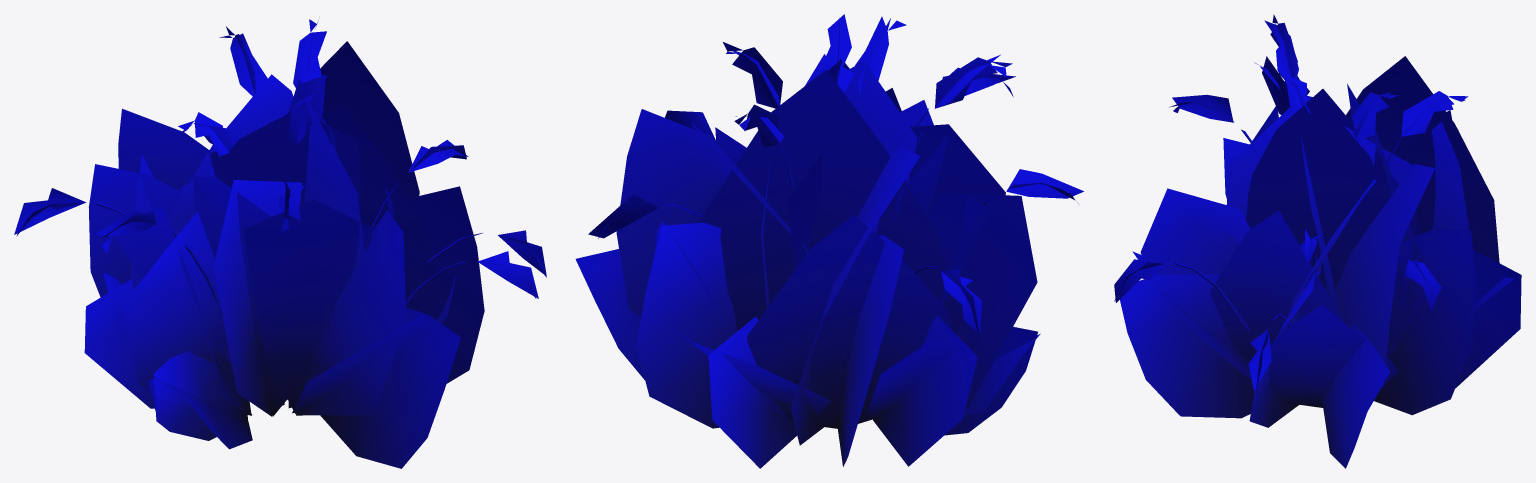
Rendered from SM_WildGrass_M_01.fbx.
3 renders of one model, left to right at view 1: azimuth 30°, elevation 25°; view 2: azimuth 150°, elevation 25°; view 3: azimuth 270°, elevation 25°, orthographic. The views are drawn at different scales.
Visible parts, largest first — view 1: SM_WildGrass_M_01; view 2: SM_WildGrass_M_01; view 3: SM_WildGrass_M_01.
Part boxes in pixels (left/top/right/bottom): SM_WildGrass_M_01: left=14, top=19, right=546, bottom=468; SM_WildGrass_M_01: left=575, top=14, right=1083, bottom=468; SM_WildGrass_M_01: left=1114, top=14, right=1521, bottom=468.
Size of the model in its own units: 113 by 100 by 93.78.
